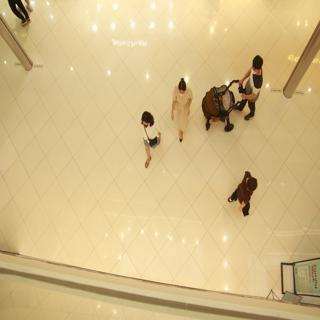person: (128, 106, 170, 173), (168, 70, 204, 142), (227, 164, 262, 222), (240, 49, 269, 113)
